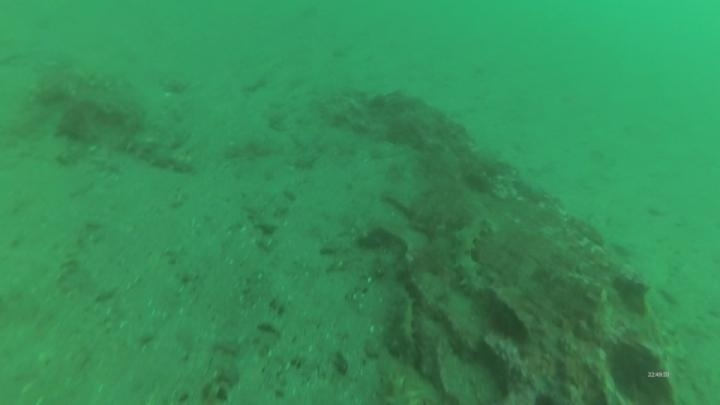holothurian: (115, 126, 199, 176), (447, 214, 495, 299), (381, 289, 420, 366), (62, 62, 138, 92), (416, 313, 441, 375)
